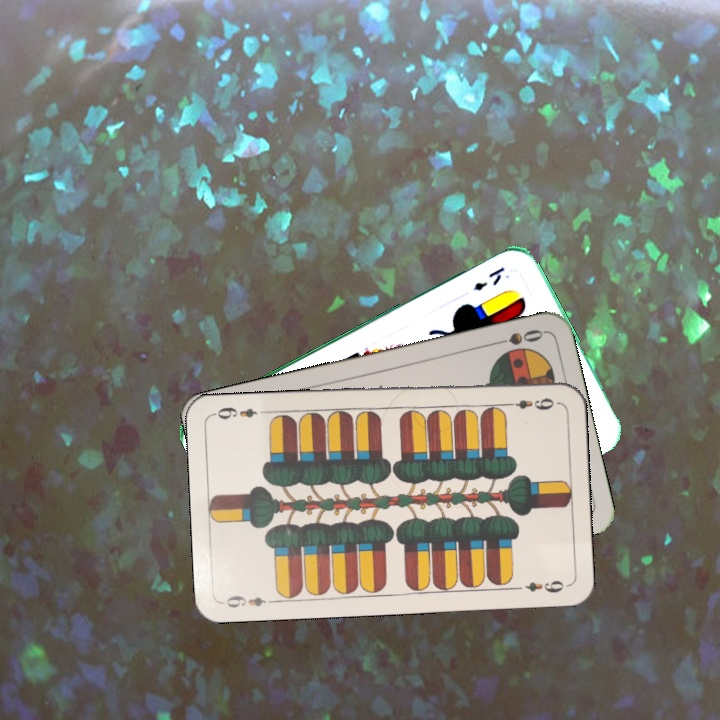E9: (219, 591, 278, 611), (501, 394, 560, 412)
EK: (469, 263, 508, 294)
SO: (487, 325, 546, 348)
